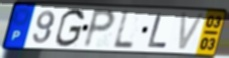9: (31, 9, 57, 44)
G: (53, 7, 86, 49)
L: (111, 10, 135, 50), (146, 12, 169, 49)
P: (81, 8, 117, 50)
V: (176, 11, 208, 52)
